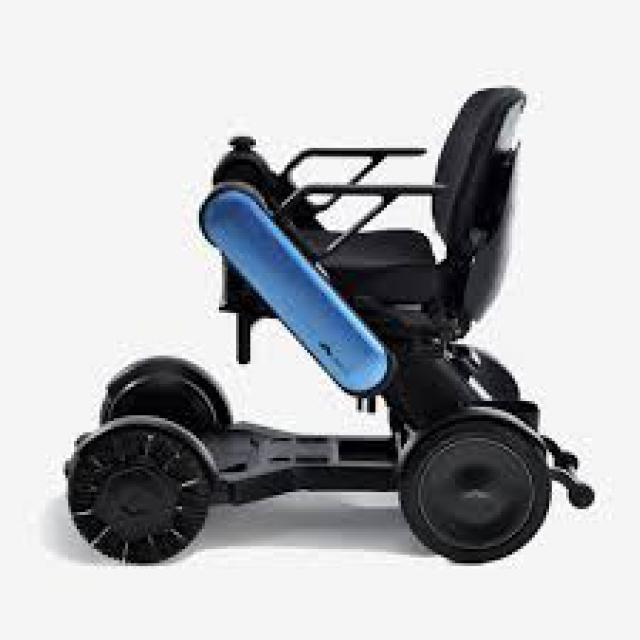wheelchairs: (71, 90, 583, 560)
